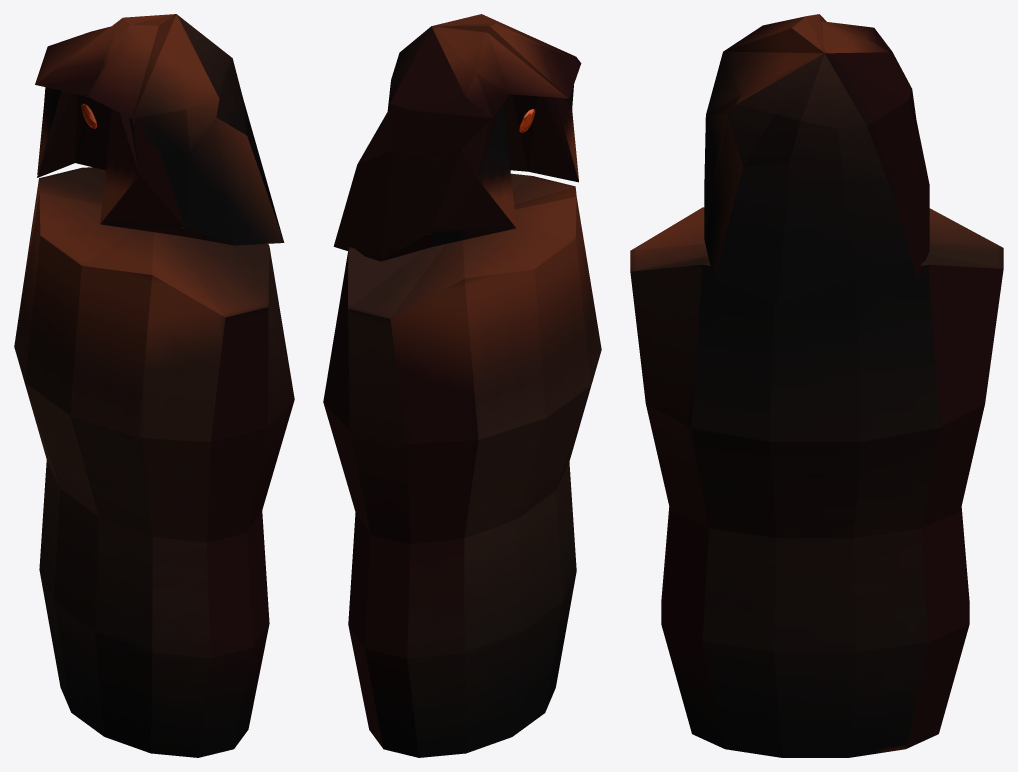
File: dealer.fbx
3 views of the same model, side by side, from view 1: azimuth 30°, elevation 25°; view 2: azimuth 150°, elevation 25°; view 3: azimuth 270°, elevation 25° (orthographic).
Parts seen in each view (by area): view 1: body, hood; view 2: body, hood; view 3: body, hood.
Boxes of the visible parts, x1,y1,x2,y2 form: body: (14, 167, 294, 757); hood: (35, 14, 284, 245); body: (323, 173, 601, 757); hood: (333, 14, 581, 261); body: (630, 207, 1003, 757); hood: (704, 14, 929, 303).
Bounding box in the file's own units: 51.56 × 156 × 75.62.
Materials: 1 (1 with a texture image).
